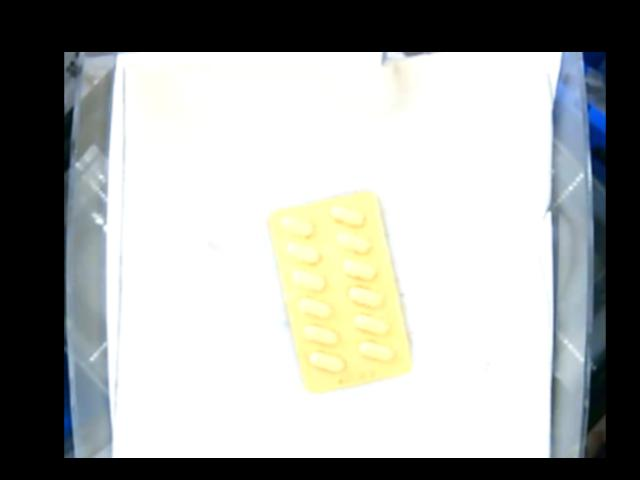Medicine: (267, 188, 413, 396)
